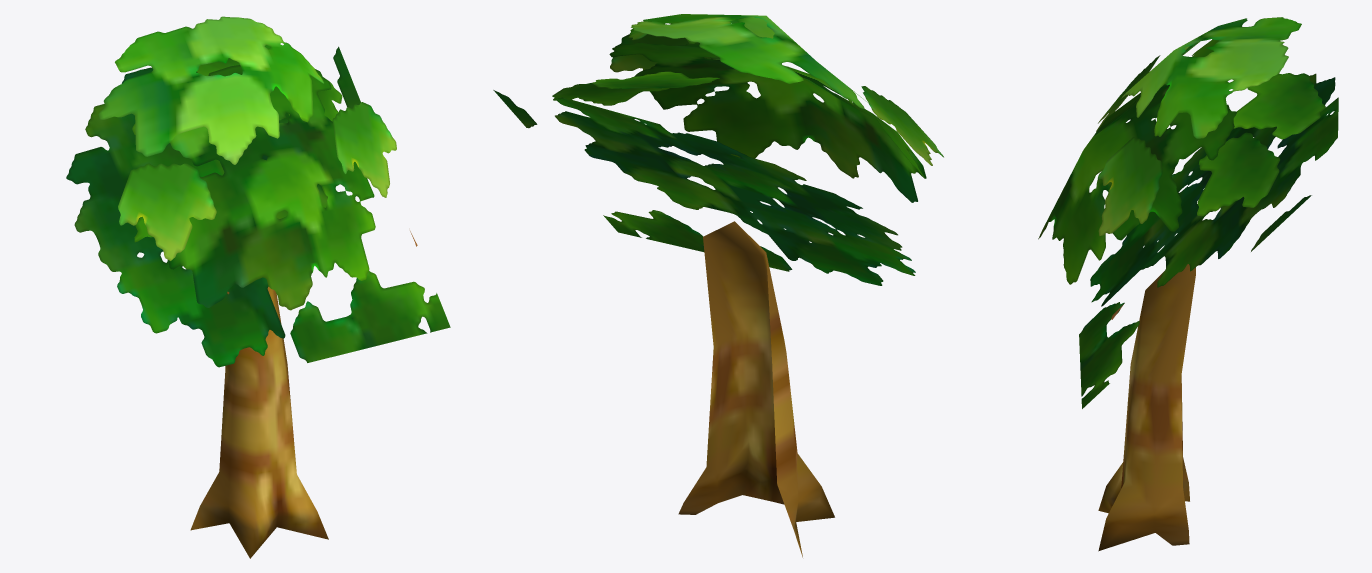
The model's file is fg_treeA_1.dae.
3 views of the same model, side by side, from view 1: azimuth 30°, elevation 25°; view 2: azimuth 150°, elevation 25°; view 3: azimuth 270°, elevation 25° (orthographic). The views are drawn at different scales.
Visible parts, largest first — view 1: vsn_mesh_0_; view 2: vsn_mesh_0_; view 3: vsn_mesh_0_.
Part boxes in pixels (<box>): vsn_mesh_0_: <box>66,16,450,558</box>; vsn_mesh_0_: <box>493,14,943,557</box>; vsn_mesh_0_: <box>1038,17,1338,551</box>.
Bounding box in the file's own units: 32.92 × 42.44 × 26.43.
